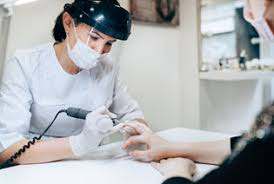mask: (67, 39, 112, 70)
